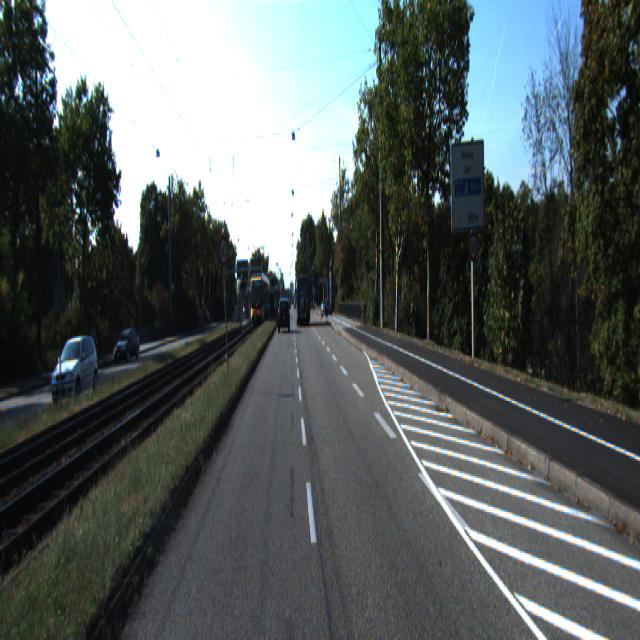Car: (51, 337, 100, 411), (113, 327, 141, 364), (296, 276, 311, 326), (278, 298, 290, 332)
